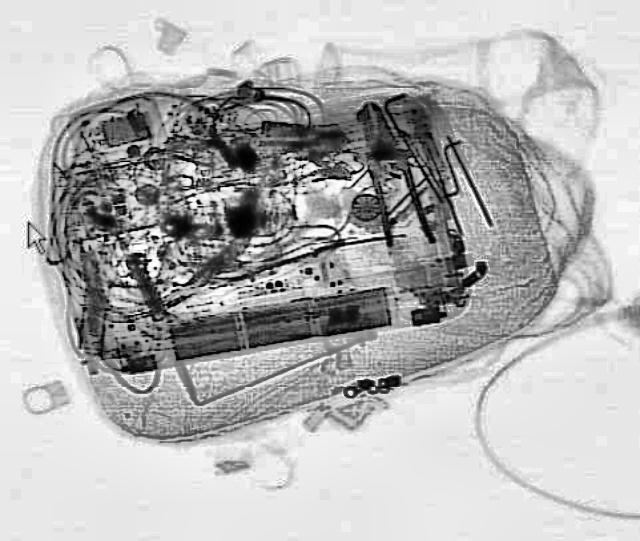Pliers: (346, 96, 436, 250)
